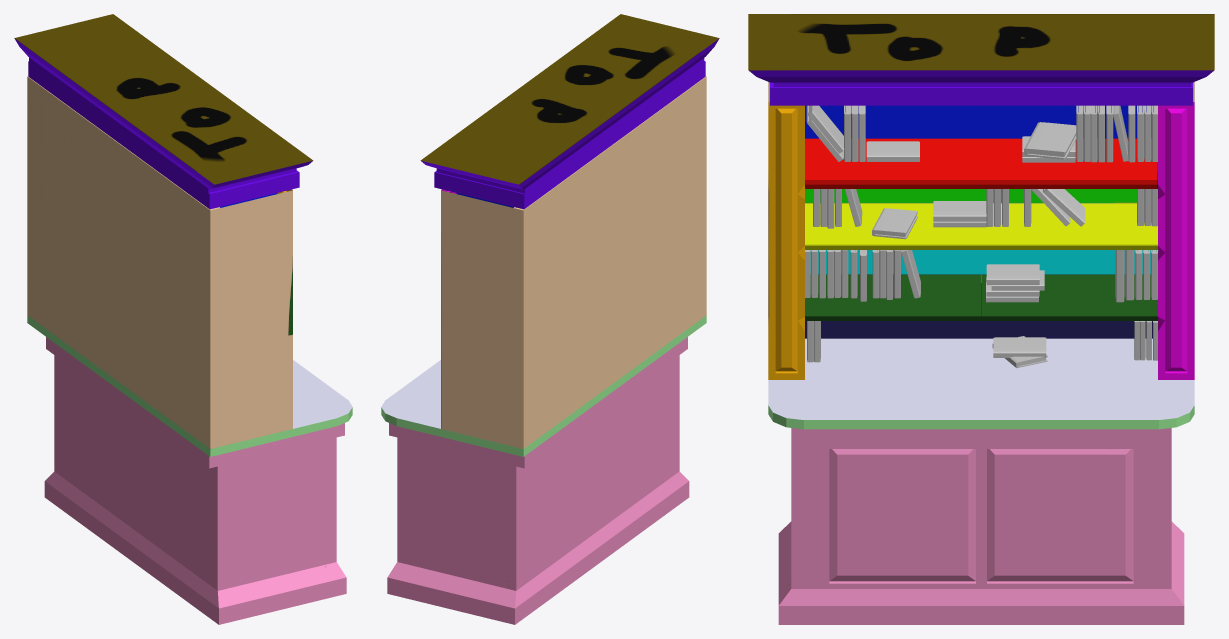
File: BookShelfWithBooks.fbx
The picture shows the model from 3 angles, left to right: view 1: azimuth 30°, elevation 25°; view 2: azimuth 150°, elevation 25°; view 3: azimuth 270°, elevation 25°; orthographic projection. The views are drawn at different scales.
Visible parts, largest first — view 1: Bookjshelf; view 2: Bookjshelf; view 3: Bookjshelf, Book.046, Book, Book.012, Book.004, Book.024, Book.018, Book.008, Book.023, Book.017.
Part boxes in pixels (x1,y1,x2,y2): Bookjshelf: (14, 14, 352, 624); Bookjshelf: (381, 14, 719, 624); Bookjshelf: (748, 14, 1214, 624); Book.046: (1024, 122, 1076, 159); Book: (813, 189, 861, 228); Book.012: (933, 201, 986, 221); Book.004: (986, 264, 1039, 284); Book.024: (866, 141, 919, 161); Book.018: (872, 208, 917, 239); Book.008: (993, 337, 1046, 357); Book.023: (806, 105, 844, 153); Book.017: (1043, 189, 1085, 226).
Size of the model in its own units: 133 by 366 by 293.
